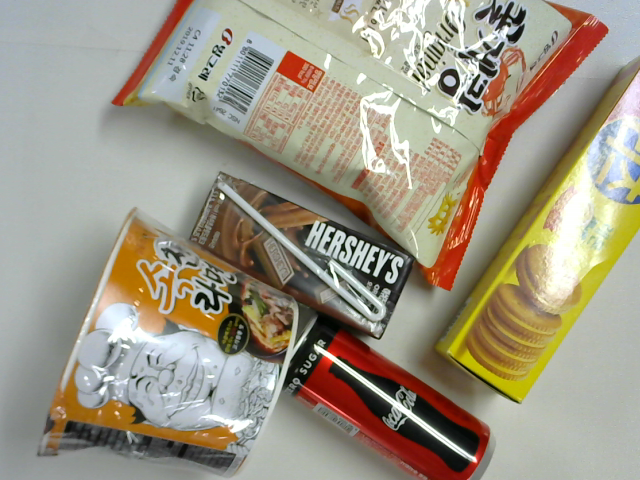Coca_Cola_Zero_Can_250ml: (281, 316, 497, 480)
Crabrang: (109, 1, 610, 291)
Hejangchan: (38, 207, 299, 480)
Hush_Choco_Drink: (187, 171, 411, 339)
Ritz_Remon_96g: (434, 54, 640, 404)
